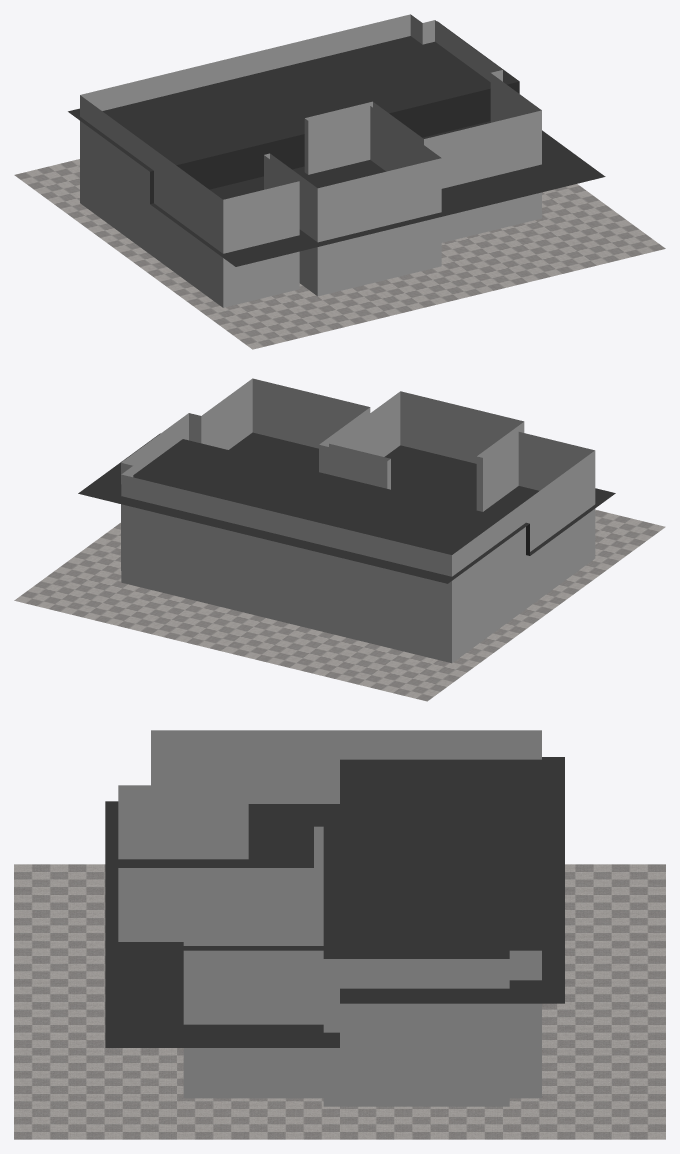
Rendered from museum.glb.
The picture shows the model from 3 angles, top to bottom: view 1: azimuth 30°, elevation 25°; view 2: azimuth 150°, elevation 25°; view 3: azimuth 270°, elevation 25°; orthographic projection. The views are drawn at different scales.
Visible parts, largest first — view 1: Wall, Plane.001, Floor; view 2: Wall, Plane.001, Floor; view 3: Wall, Floor, Plane.001.
Part boxes in pixels (x1=…): Wall: x1=80, y1=14, x2=541, y2=307; Plane.001: x1=68, y1=21, x2=605, y2=266; Floor: x1=14, y1=159, x2=665, y2=349; Wall: x1=121, y1=378, x2=595, y2=663; Plane.001: x1=78, y1=432, x2=615, y2=583; Floor: x1=14, y1=509, x2=665, y2=701; Wall: x1=118, y1=730, x2=541, y2=1106; Floor: x1=14, y1=864, x2=665, y2=1139; Plane.001: x1=105, y1=757, x2=564, y2=1047.
Size of what is drawn, in the model's own units: 20 by 5 by 20.
3 materials, 1 textured.
